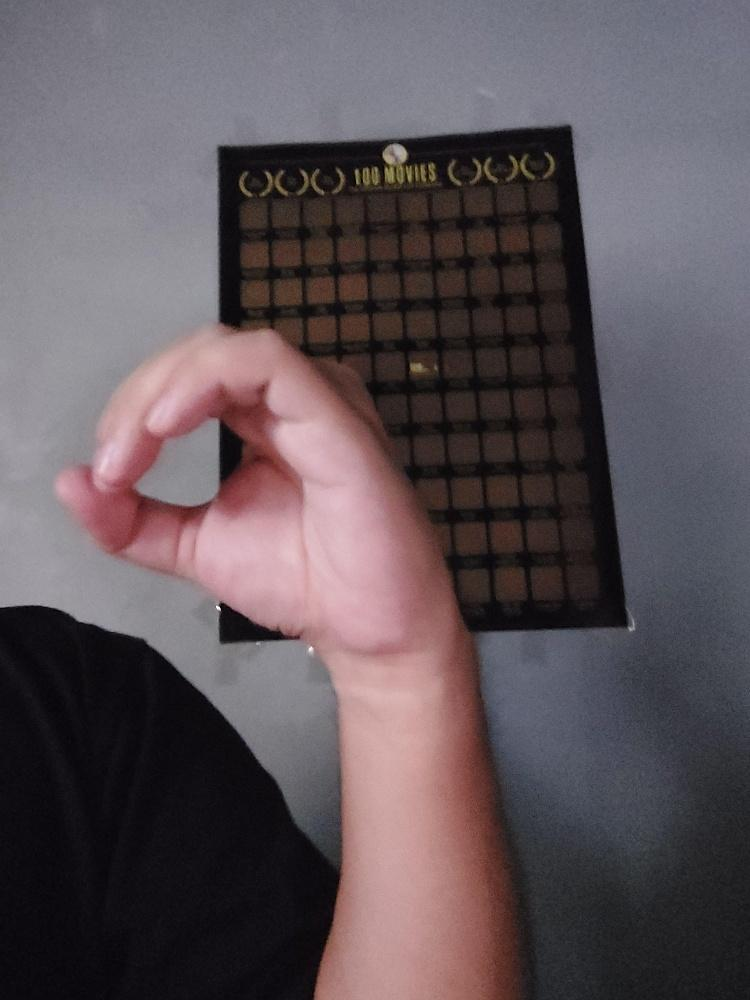o: (48, 315, 470, 661)
